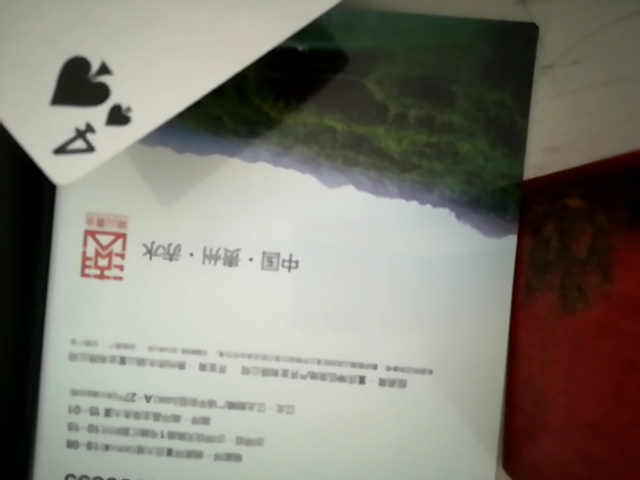ht 4: (0, 1, 416, 199)
